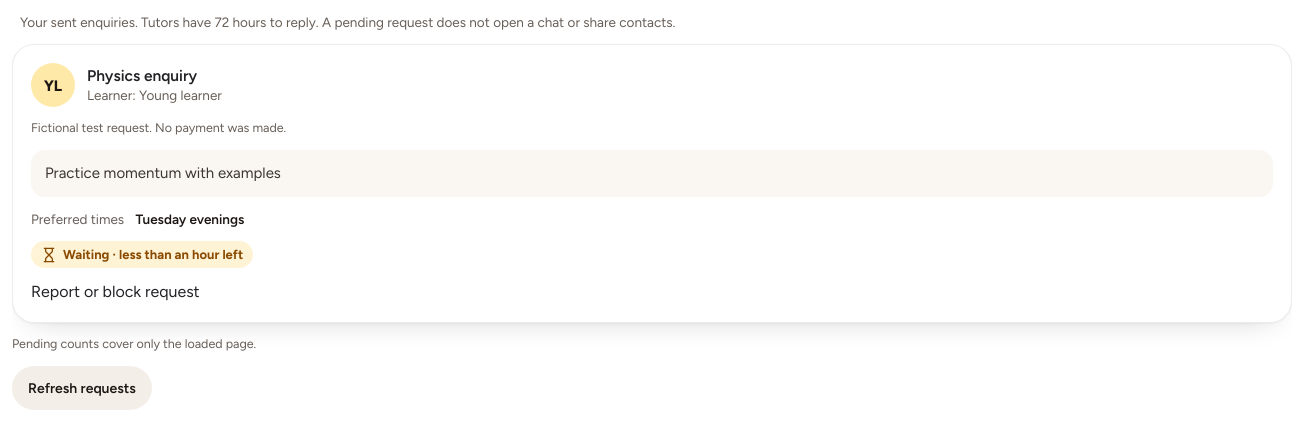
Test case: shows sent status and only the usable learner alias, with no Tutor action
The image size is (1292, 427).
Check: the heading "Physics enquiry" is shown, box [87,66,197,85]
Check: the text "Waiting · less than an hour left" is shown, box [31,241,253,268]
Click the button "Refresh requests". click: (82, 388)
box: [12,366,152,410]
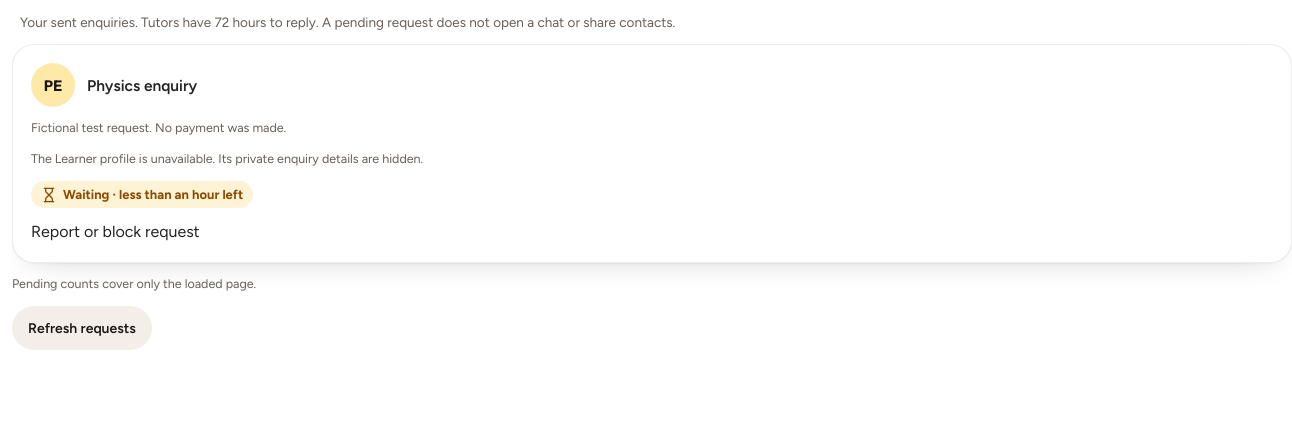
Check: the text "The Learner profile is unavailable" is shown, box [31,151,423,166]
Check: the text "Practice momentum with examples" is gone
